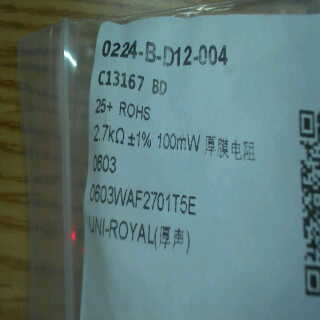2.7kR: (90, 121, 126, 150)
